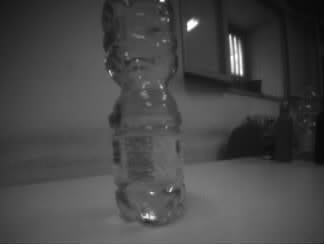Bottle: (98, 1, 191, 228)
